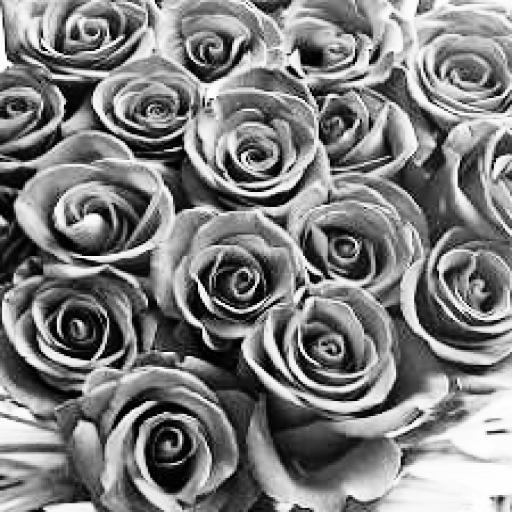rose: (54, 356, 270, 512), (244, 280, 458, 433), (9, 132, 182, 273), (150, 205, 312, 350), (187, 70, 332, 203), (291, 182, 437, 312), (400, 222, 512, 371), (308, 79, 432, 183), (405, 6, 512, 124), (89, 60, 200, 149), (434, 115, 512, 226)
